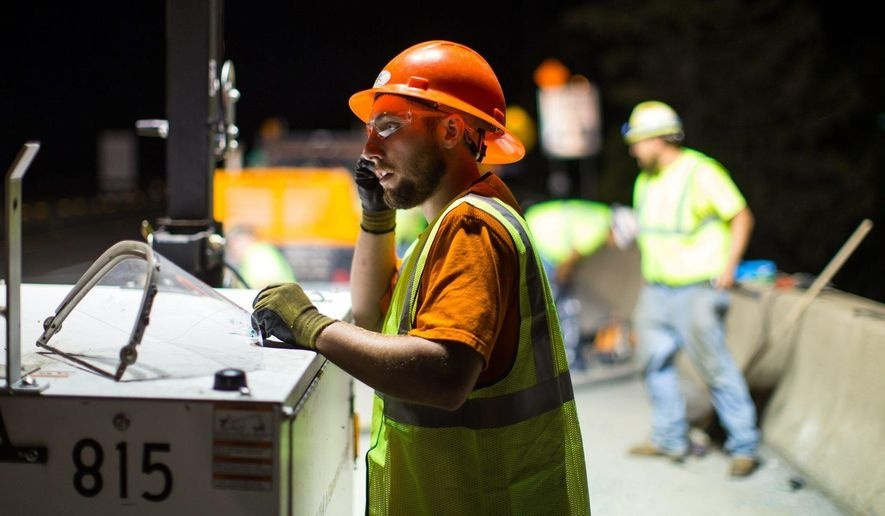red: (357, 39, 513, 202)
yellow: (623, 95, 684, 168)
